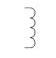inductor: (21, 3, 37, 48)
